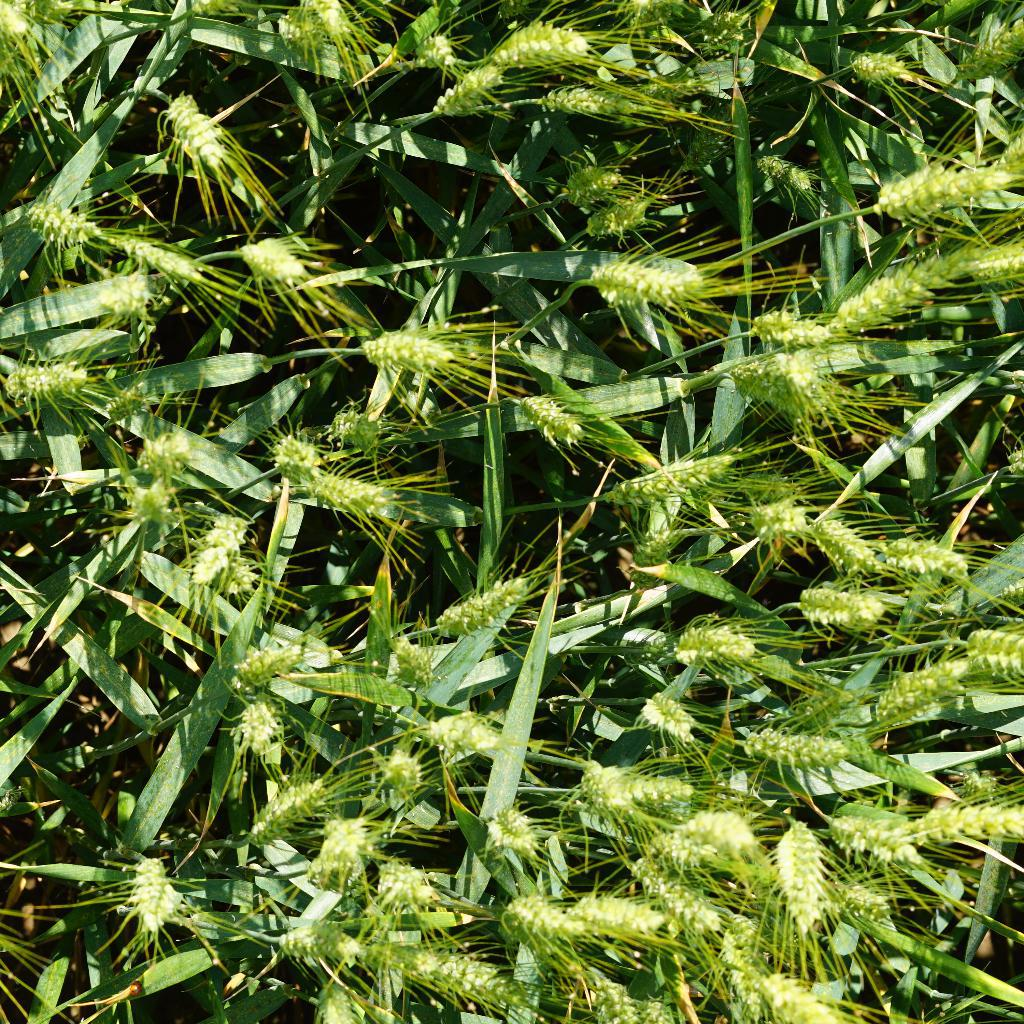0-0: (575, 759, 726, 872), (373, 928, 535, 1014), (820, 247, 971, 334), (355, 314, 503, 385), (241, 764, 350, 852), (711, 350, 841, 423), (297, 458, 414, 536), (869, 160, 1009, 224), (624, 856, 728, 941), (428, 564, 541, 642), (602, 444, 736, 509), (582, 262, 710, 328), (183, 498, 264, 599), (163, 91, 250, 185), (823, 802, 937, 868), (766, 817, 828, 934), (112, 854, 194, 939), (233, 228, 328, 298), (875, 647, 969, 716), (484, 21, 597, 78), (0, 0, 74, 87), (516, 388, 615, 452), (912, 794, 1024, 848), (947, 16, 1024, 93), (672, 103, 744, 182), (577, 183, 665, 246), (106, 225, 208, 279), (0, 356, 98, 411), (817, 719, 906, 779), (573, 890, 676, 941), (881, 531, 970, 590), (792, 588, 890, 641), (425, 701, 499, 770), (429, 61, 510, 123), (679, 620, 763, 679), (760, 966, 845, 1024), (742, 305, 840, 355), (130, 425, 209, 487), (960, 617, 1024, 693), (302, 815, 366, 890), (807, 519, 879, 584), (506, 817, 572, 886), (624, 516, 681, 595), (500, 895, 584, 948), (229, 638, 306, 695), (750, 152, 823, 211), (298, 0, 384, 50), (17, 196, 102, 246), (372, 856, 438, 920), (825, 872, 905, 924), (272, 924, 362, 970), (93, 264, 164, 321), (372, 750, 431, 818), (380, 629, 438, 697), (779, 682, 856, 733), (685, 803, 760, 855), (745, 729, 826, 777), (638, 687, 702, 747), (325, 406, 391, 464), (533, 84, 629, 123), (837, 51, 928, 91), (744, 495, 811, 549), (709, 935, 758, 1008), (233, 696, 291, 757), (267, 430, 325, 490), (480, 795, 544, 848), (612, 770, 707, 805), (272, 8, 325, 68), (961, 238, 1024, 288), (561, 161, 626, 207), (102, 380, 159, 431), (694, 7, 754, 54), (588, 971, 641, 1024), (618, 73, 711, 103), (308, 979, 370, 1024), (124, 478, 183, 525), (222, 556, 273, 610), (619, 1, 695, 36), (405, 24, 457, 74), (623, 631, 673, 672), (997, 115, 1024, 188), (987, 569, 1024, 618), (958, 766, 1003, 800), (636, 991, 681, 1024), (724, 905, 760, 946), (188, 0, 254, 19), (1003, 438, 1024, 479)
